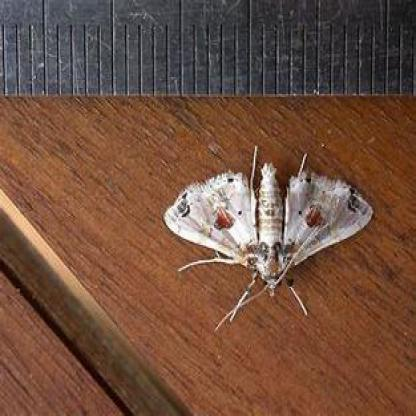leucinodes: (169, 166, 375, 293)
